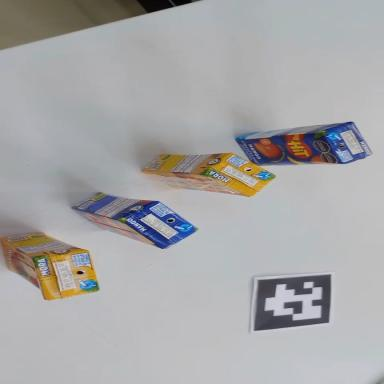HIT-MANGO: (69, 189, 200, 253), (236, 122, 372, 165)
HIT-MORA: (1, 219, 100, 309), (141, 151, 275, 197)
cara_F: (70, 208, 166, 248), (237, 132, 342, 166), (0, 231, 44, 306), (143, 172, 249, 196)
